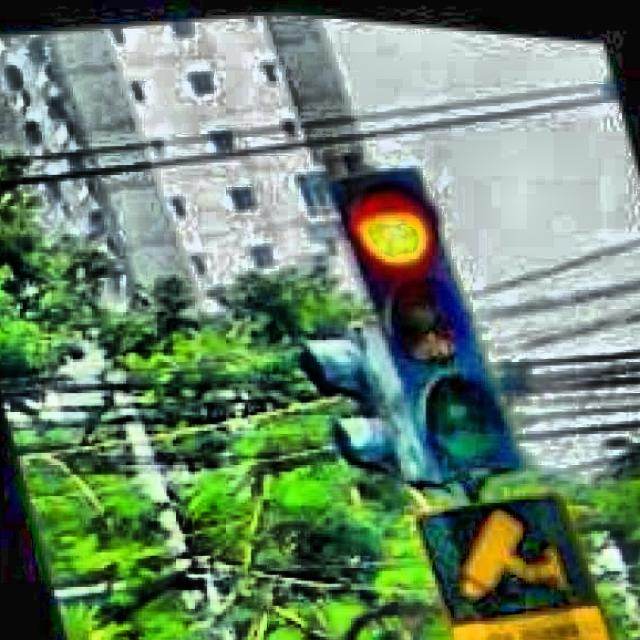red: (335, 170, 522, 483)
